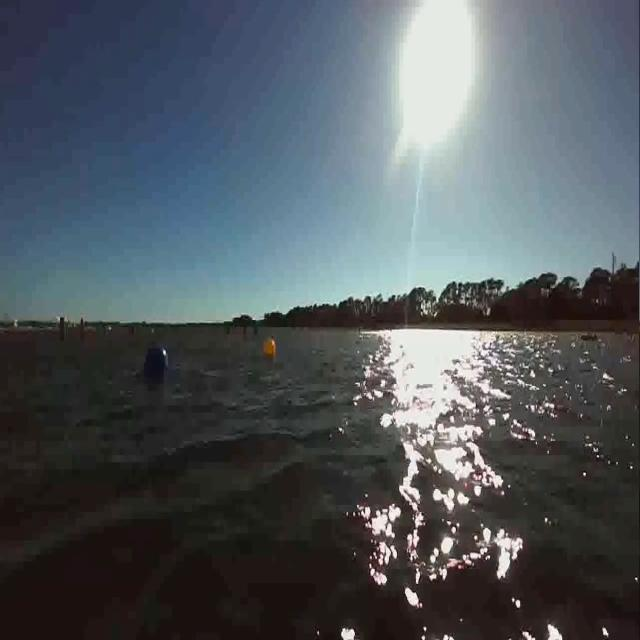blue-buoy: (142, 341, 169, 379)
yellow-buoy: (265, 337, 278, 359)
